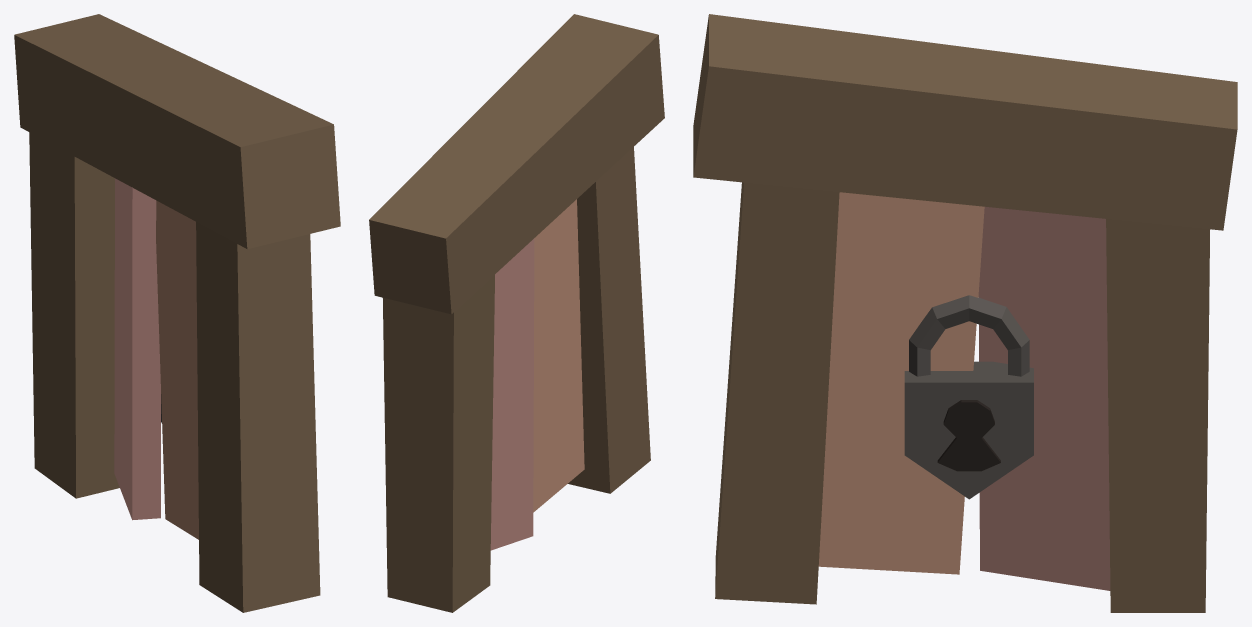
The model's file is ClosedHatfieldGate.fbx.
3 views of the same model, side by side, from view 1: azimuth 30°, elevation 25°; view 2: azimuth 150°, elevation 25°; view 3: azimuth 270°, elevation 25° (orthographic). The views are drawn at different scales.
Parts seen in each view (by area): view 1: Cube.002, Cube.001, Cube; view 2: Cube.002, Cube, Cube.001; view 3: Cube.002, Cube, Cube.001, Cube.003.
Part boxes in pixels (x1,y1,x2,y2): Cube.002: (14,14,340,612); Cube.001: (114,178,160,520); Cube: (156,200,198,539); Cube.002: (369,14,664,612); Cube: (533,199,584,512); Cube.001: (490,238,534,550); Cube.002: (693,14,1237,612); Cube: (818,192,984,574); Cube.001: (978,206,1110,590); Cube.003: (904,295,1033,499).
Size of the model in its own units: 82.14 by 405 by 361.
